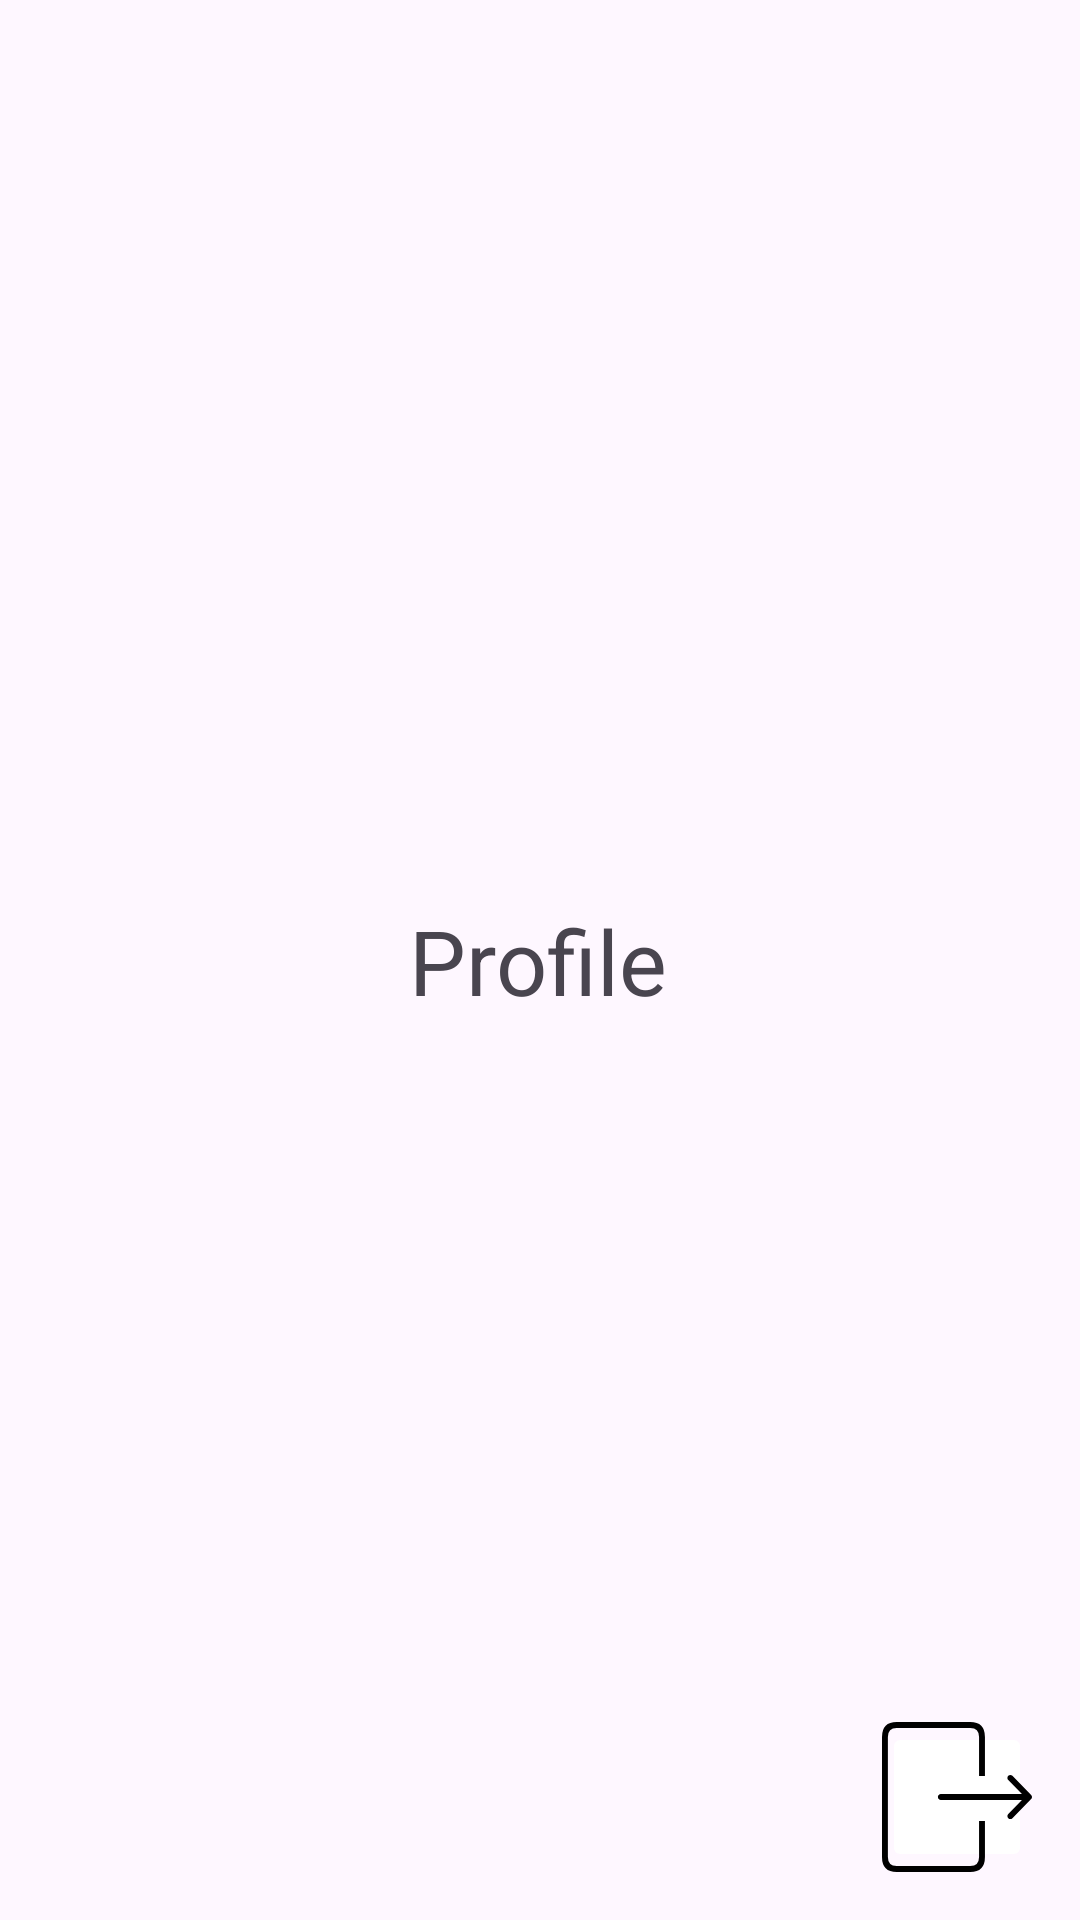

Screen size 1080w x 1920h. Icon name, then its center in pixels as (x=x, y=y):
log out: (x=957, y=1797)
